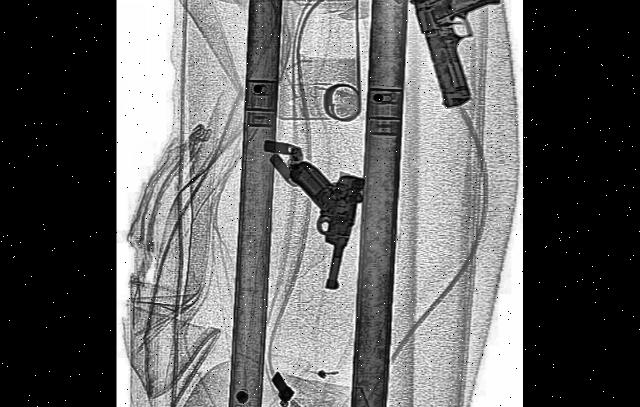Gun: (277, 144, 366, 300), (409, 0, 520, 123)
